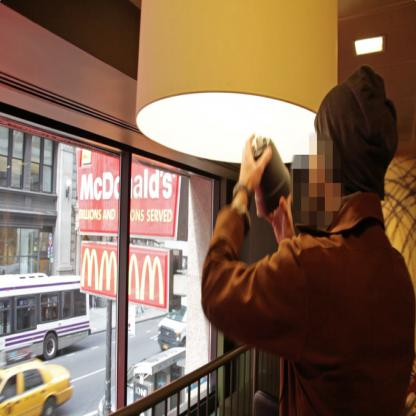Car: (2, 350, 72, 411)
